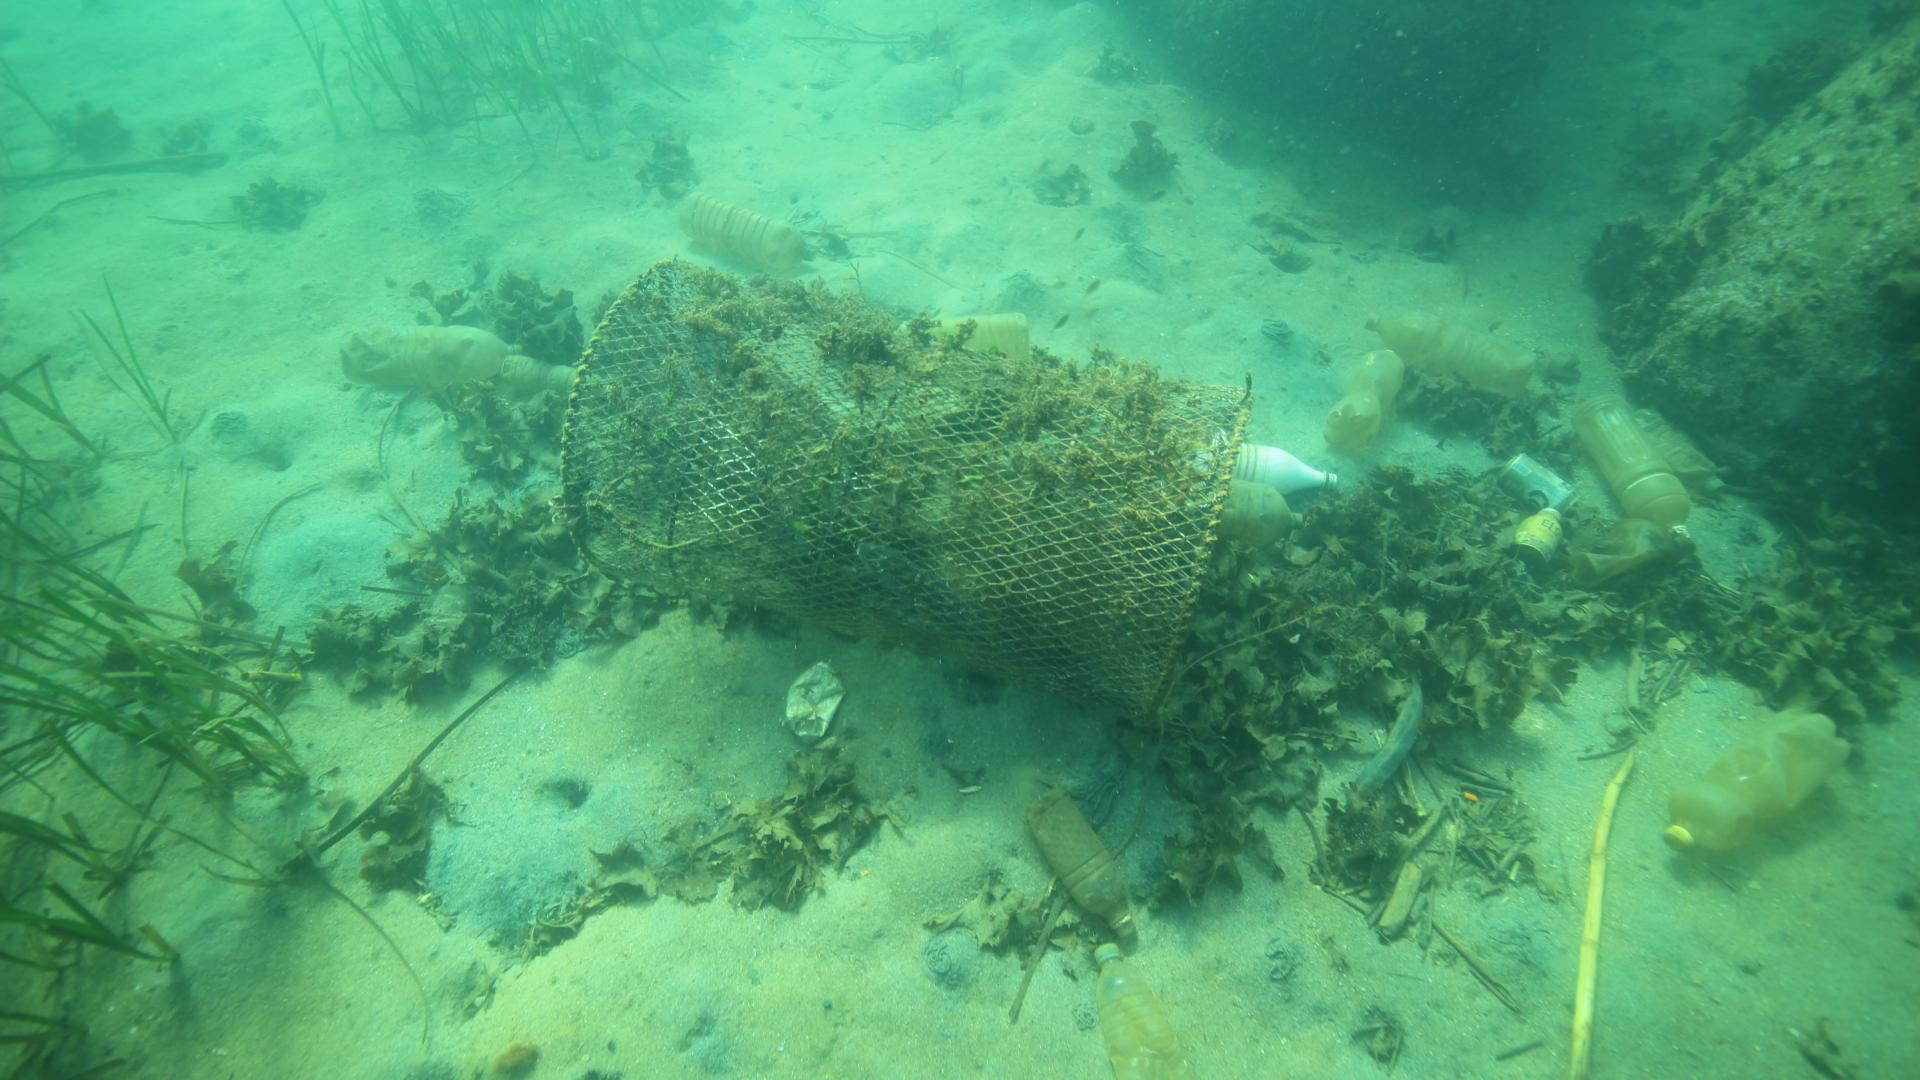spring fish trap: (562, 257, 1247, 717)
